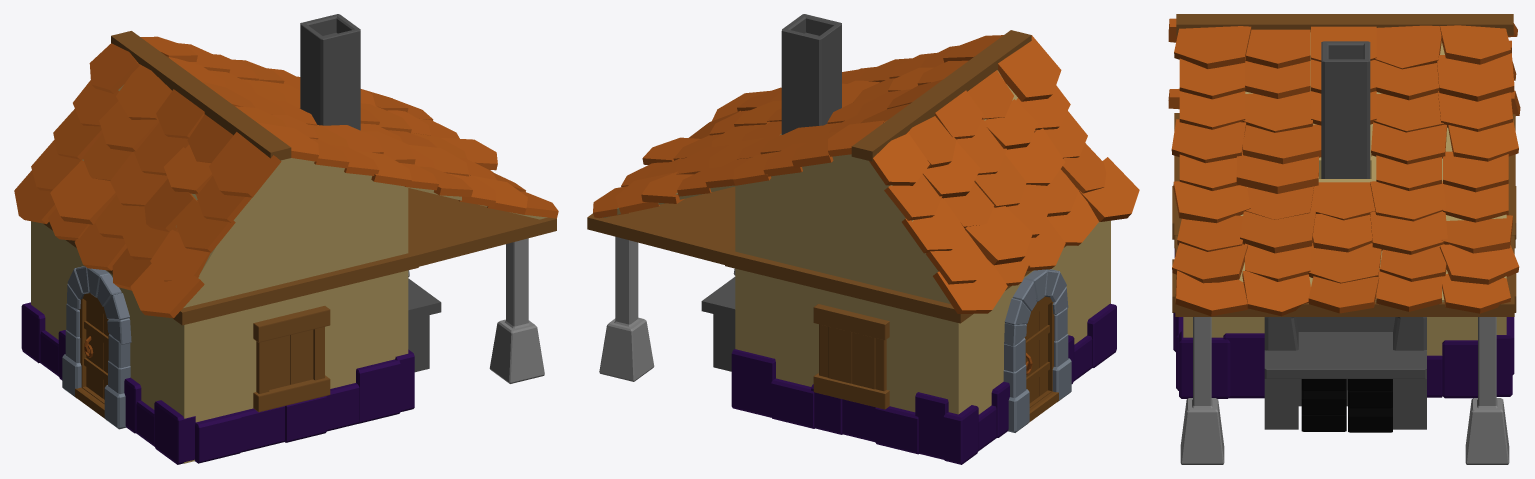
The model's file is black_smith.glb.
3 views of the same model, side by side, from view 1: azimuth 30°, elevation 25°; view 2: azimuth 150°, elevation 25°; view 3: azimuth 270°, elevation 25° (orthographic). The views are drawn at different scales.
Visible parts, largest first — view 1: BlackSmith_Shop; view 2: BlackSmith_Shop; view 3: BlackSmith_Shop.
Part boxes in pixels (x1,y1,x2,y2): BlackSmith_Shop: (14,14,558,464); BlackSmith_Shop: (587,14,1139,464); BlackSmith_Shop: (1168,14,1520,464).
Bounding box in the file's own units: 13.07 × 9.88 × 9.01.
